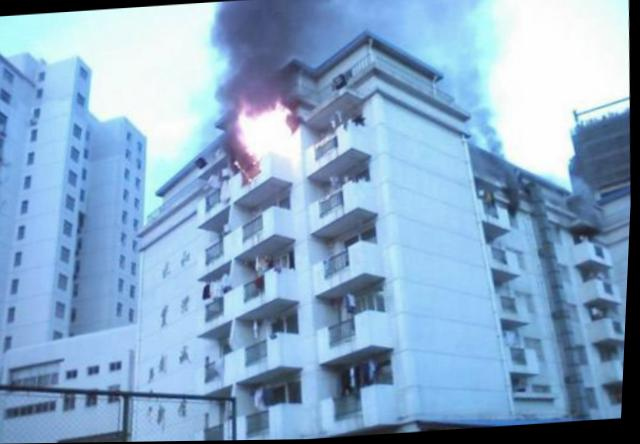fire: (228, 92, 299, 164)
